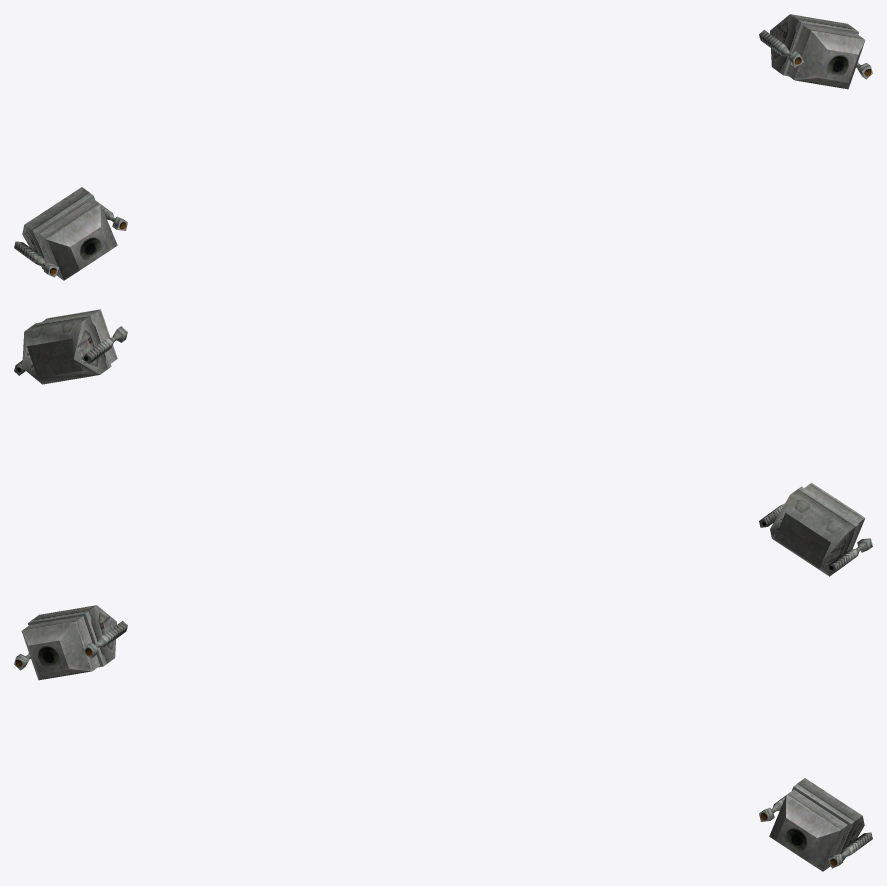
File: hutt_fighter_light_weapon_s03_l1.fbx
3 views of the same model, one above another, from view 1: azimuth 30°, elevation 25°; view 2: azimuth 150°, elevation 25°; view 3: azimuth 330°, elevation 25° (orthographic).
Visible parts, largest first — view 1: mesh_node; view 2: mesh_node; view 3: mesh_node.
Boxes of the visible parts, box(x1,y1,x2,y2) form: mesh_node: box(14, 14, 872, 280); mesh_node: box(14, 309, 872, 576); mesh_node: box(14, 605, 872, 871).
Size of the model in its own units: 3.62 by 0.3029 by 0.3227.
1 material, 1 textured.
